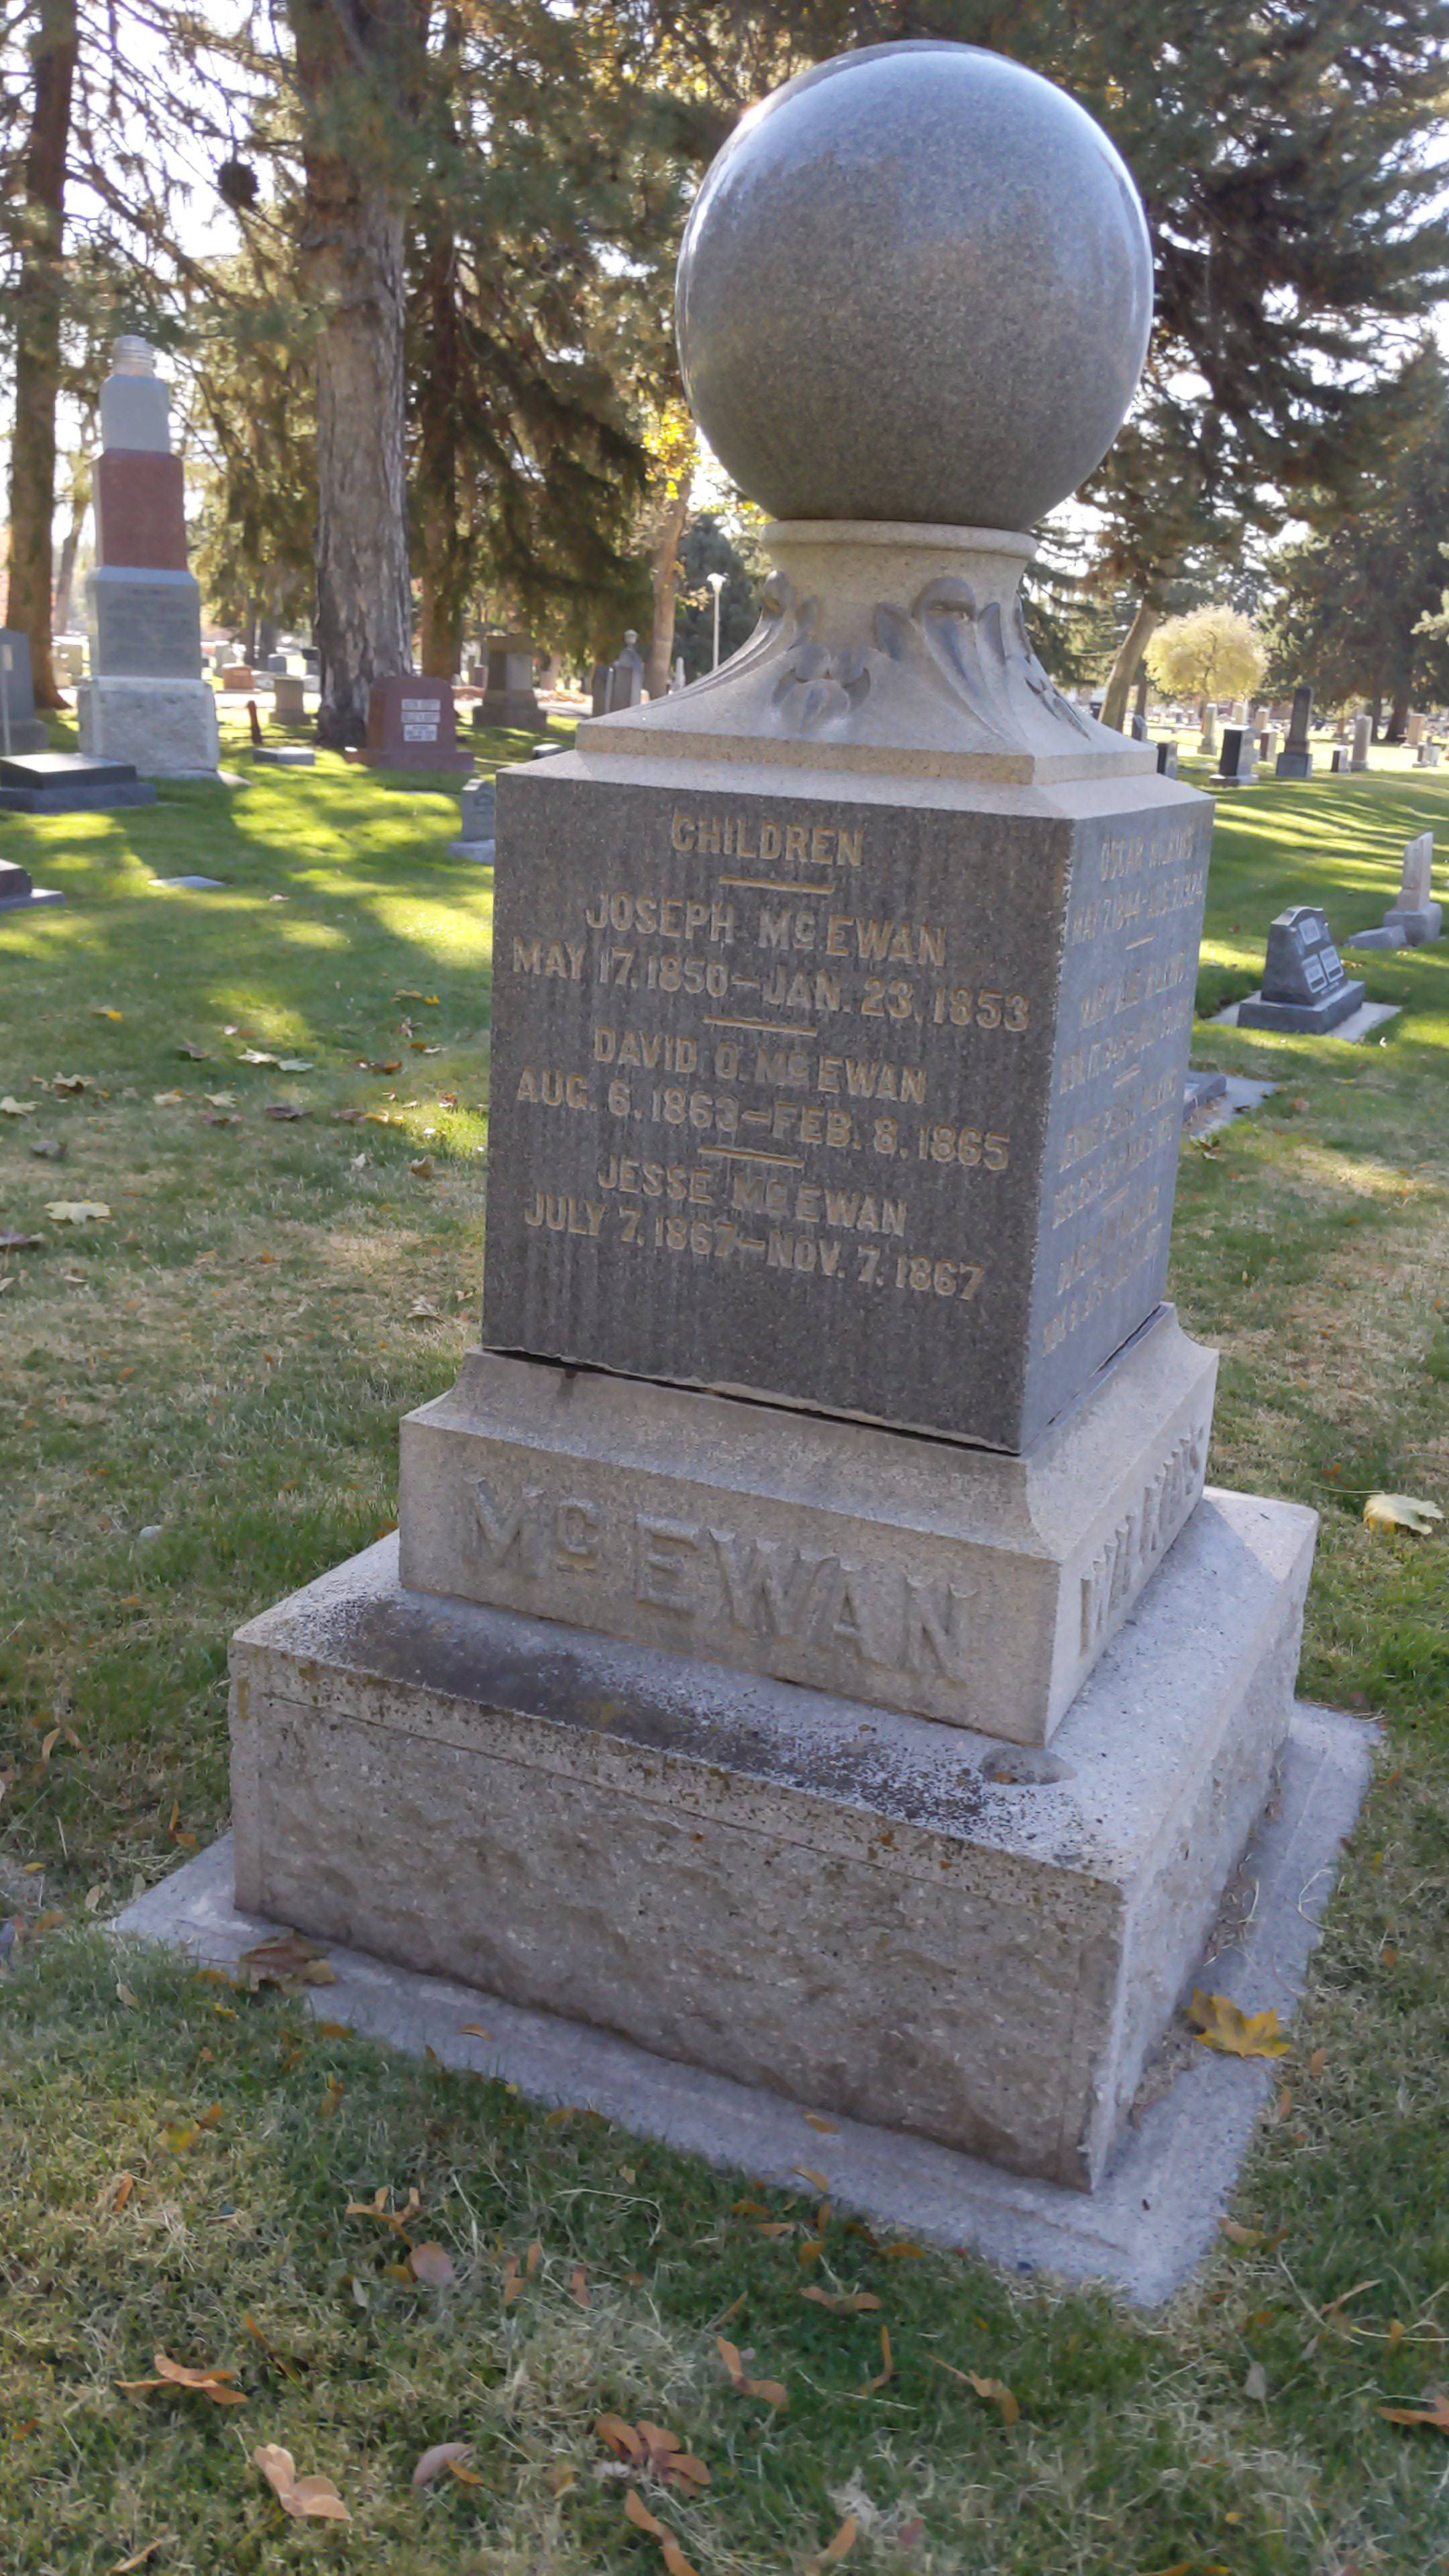obelisk: (403, 58, 1226, 1757)
